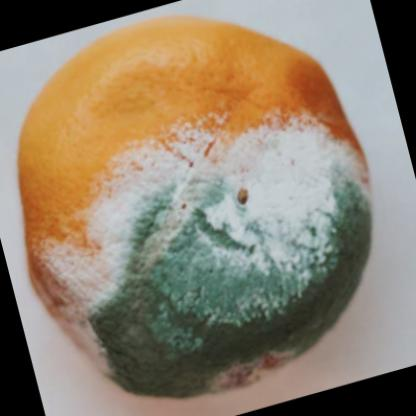rotten_orange: (5, 14, 376, 403)
